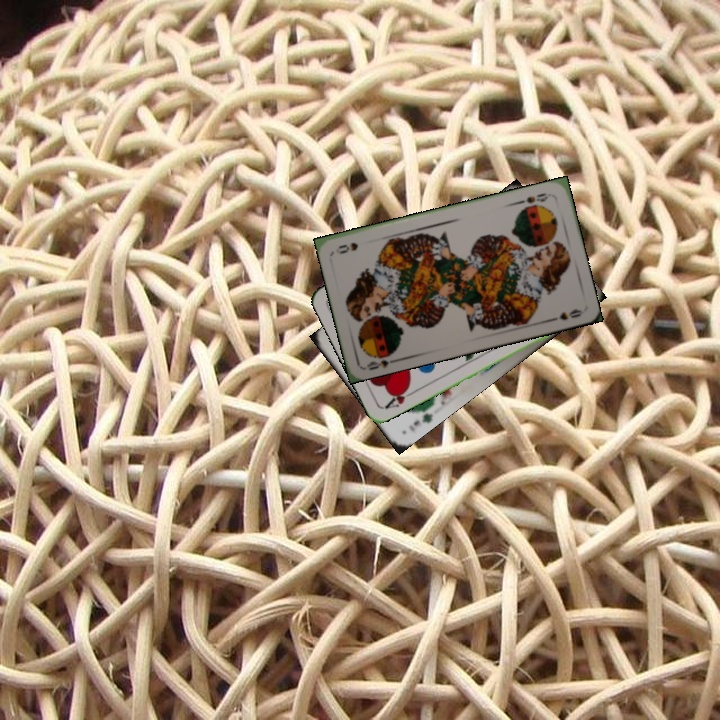GK: (405, 403, 435, 434)
HA: (380, 382, 418, 412)
SO: (362, 347, 401, 373), (514, 189, 555, 206)
